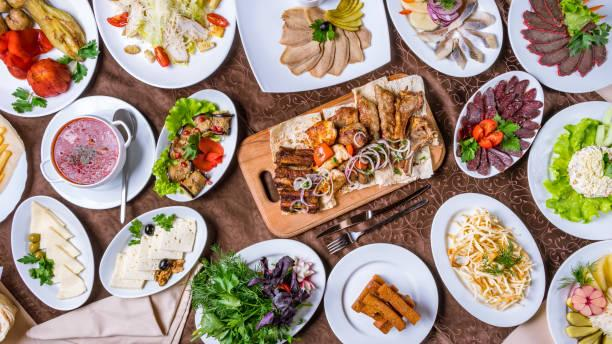Braised Crucian Carp: (234, 74, 434, 240), (430, 191, 545, 326), (233, 0, 391, 95), (196, 238, 323, 341), (92, 0, 232, 90), (321, 242, 438, 343), (526, 100, 611, 237), (2, 0, 99, 116), (97, 205, 210, 296), (455, 71, 545, 178), (509, 0, 611, 92), (11, 197, 94, 308), (157, 89, 237, 203), (389, 0, 504, 78), (48, 109, 133, 198)
